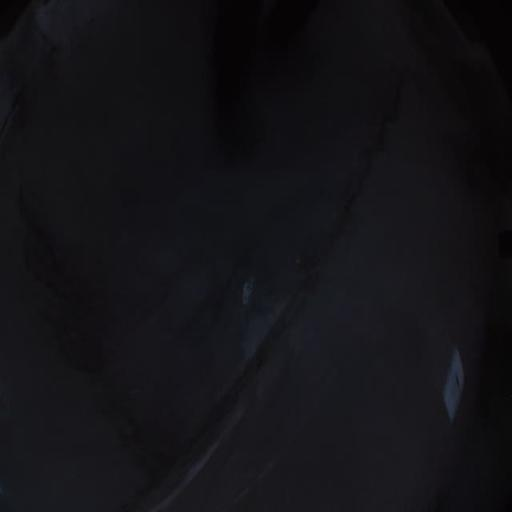T: (442, 344, 465, 424)
